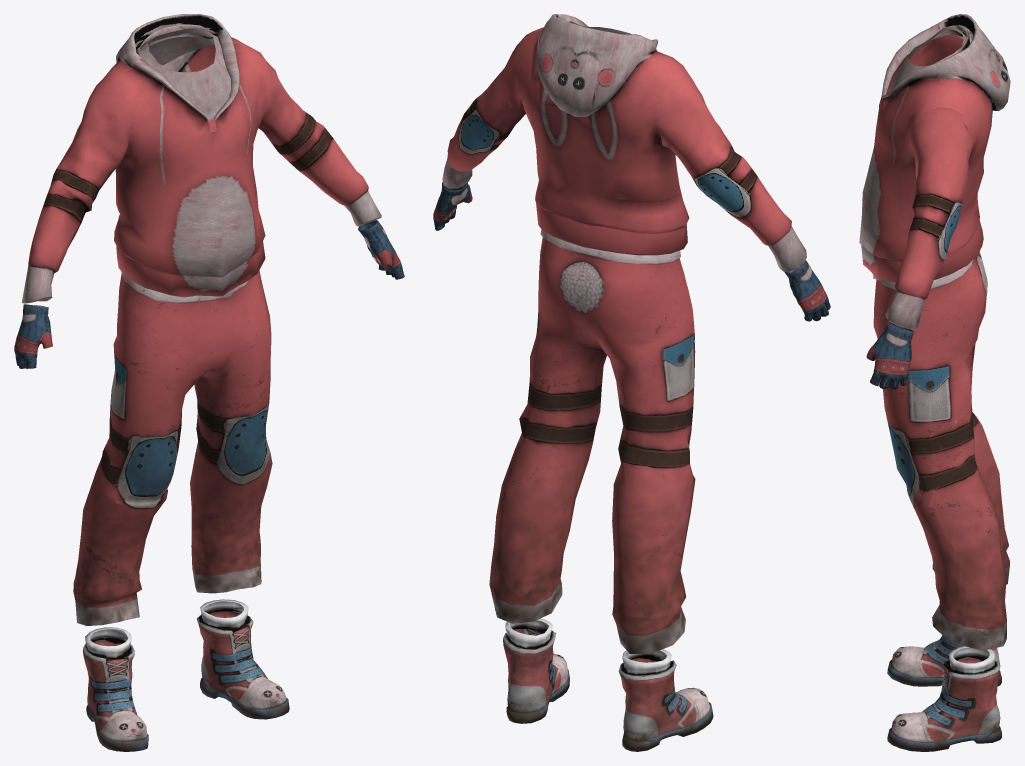
The model's file is tough_bunny_clothing_set.glb.
3 views of the same model, side by side, from view 1: azimuth 30°, elevation 25°; view 2: azimuth 150°, elevation 25°; view 3: azimuth 270°, elevation 25° (orthographic). The views are drawn at different scales.
Visible parts, largest first — view 1: Object_4, Object_5, Object_2, Object_3; view 2: Object_5, Object_4, Object_2, Object_3; view 3: Object_4, Object_5, Object_2, Object_3.
Part boxes in pixels (x1,y1,x2,y2): Object_4: (21,14,381,303); Object_5: (73,270,272,625); Object_2: (83,599,289,751); Object_3: (14,220,404,368); Object_5: (489,230,695,653); Object_4: (442,14,806,271); Object_2: (503,618,713,751); Object_3: (433,182,830,321); Object_4: (859,14,1010,328); Object_5: (873,252,1009,650); Object_2: (887,635,1001,751); Object_3: (866,323,914,389).
Size of the model in its own units: 5.27 by 9.05 by 1.82.
4 materials, 4 textured.
